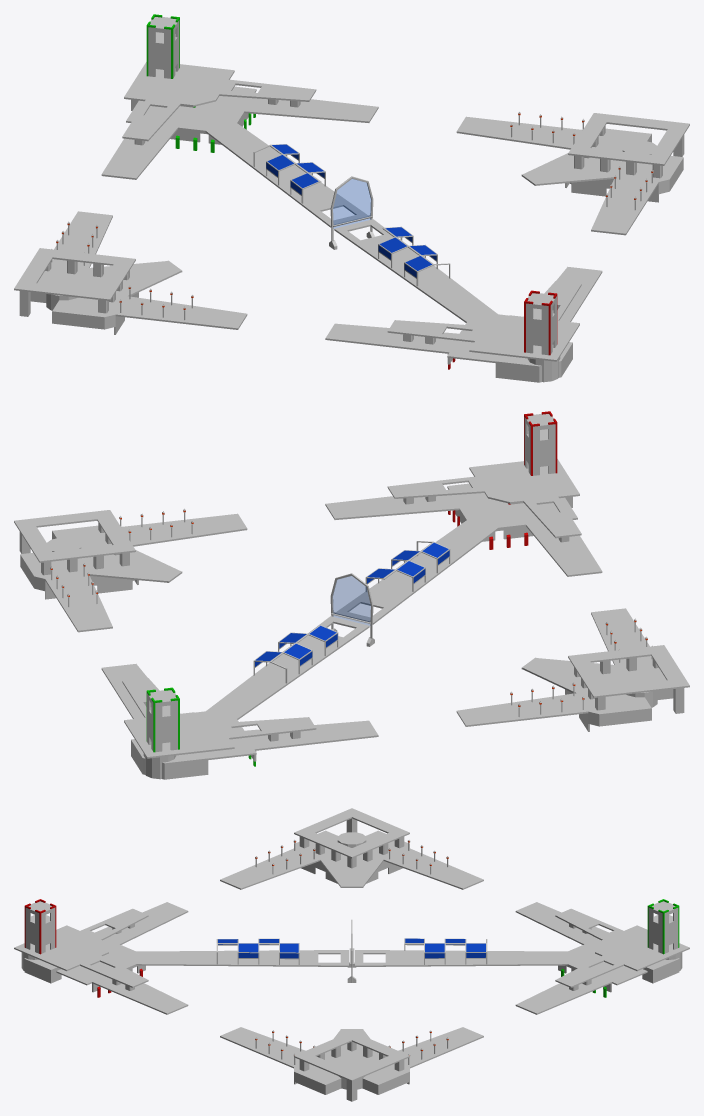
The model's file is version-4.obj.
3 views of the same model, one above another, from view 1: azimuth 30°, elevation 25°; view 2: azimuth 150°, elevation 25°; view 3: azimuth 270°, elevation 25° (orthographic). The views are drawn at different scales.
Parts seen in each view (by area): view 1: side_castle_catwalk_Cube.049, side_castle_catwalk.001_Cube.049, green_castle_catwalk_lower_Cube.018, red_castle_catwalk_middle_Cube.059, green_castle_catwalk_middle_Cube.057, side_fortress_upper.001_Cube.043, green_castle_upper_floor_Cube.016, red_castle_catwalk_lower_Cube.029, side_fortress_higher.001_Cube.044, side_fortress_higher_Cube.044, side_fortress_upper_Cube.043, red_castle_upper_floor_Cube.028 (+14 smaller); view 2: side_castle_catwalk_Cube.049, side_castle_catwalk.001_Cube.049, red_castle_catwalk_lower_Cube.029, green_castle_catwalk_middle_Cube.057, red_castle_catwalk_middle_Cube.059, side_fortress_upper.001_Cube.043, red_castle_upper_floor_Cube.028, green_castle_catwalk_lower_Cube.018, side_fortress_higher.001_Cube.044, side_fortress_higher_Cube.044, side_fortress_upper_Cube.043, green_castle_upper_floor_Cube.016 (+14 smaller); view 3: side_castle_catwalk.001_Cube.049, side_castle_catwalk_Cube.049, green_castle_catwalk_middle_Cube.057, red_castle_catwalk_middle_Cube.059, side_fortress_upper_Cube.043, green_castle_catwalk_lower_Cube.018, red_castle_catwalk_lower_Cube.029, green_castle_upper_floor_Cube.016, red_castle_upper_floor_Cube.028, side_fortress_higher_Cube.044, side_fortress_higher.001_Cube.044, green_castle_catwalk_upper_Cube.019 (+13 smaller).
Part boxes in pixels (x1,y1,x2,y2): side_castle_catwalk_Cube.049: (456, 116, 658, 235); side_castle_catwalk.001_Cube.049: (51, 211, 247, 329); green_castle_catwalk_lower_Cube.018: (101, 93, 378, 179); red_castle_catwalk_middle_Cube.059: (334, 219, 497, 322); green_castle_catwalk_middle_Cube.057: (205, 123, 367, 227); side_fortress_upper.001_Cube.043: (30, 263, 138, 329); green_castle_upper_floor_Cube.016: (124, 62, 234, 106); red_castle_catwalk_lower_Cube.029: (325, 266, 602, 353); side_fortress_higher.001_Cube.044: (14, 248, 135, 300); side_fortress_higher_Cube.044: (568, 113, 689, 165); side_fortress_upper_Cube.043: (565, 128, 683, 194); red_castle_upper_floor_Cube.028: (469, 315, 579, 361); side_castle_catwalk_Cube.049: (45, 513, 247, 632); side_castle_catwalk.001_Cube.049: (456, 608, 652, 726); red_castle_catwalk_lower_Cube.029: (325, 490, 602, 576); green_castle_catwalk_middle_Cube.057: (206, 616, 369, 719); red_castle_catwalk_middle_Cube.059: (336, 520, 498, 624); side_fortress_upper.001_Cube.043: (565, 660, 673, 726); red_castle_upper_floor_Cube.028: (469, 459, 579, 503); green_castle_catwalk_lower_Cube.018: (101, 663, 378, 750); side_fortress_higher.001_Cube.044: (568, 645, 689, 697); side_fortress_higher_Cube.044: (14, 510, 135, 562); side_fortress_upper_Cube.043: (20, 525, 138, 591); green_castle_upper_floor_Cube.016: (124, 712, 234, 758); side_castle_catwalk.001_Cube.049: (220, 848, 483, 889); side_castle_catwalk_Cube.049: (220, 1027, 483, 1068); green_castle_catwalk_middle_Cube.057: (355, 950, 567, 966); red_castle_catwalk_middle_Cube.059: (136, 950, 348, 966); side_fortress_upper_Cube.043: (294, 1045, 409, 1094); green_castle_catwalk_lower_Cube.018: (515, 902, 610, 1014); red_castle_catwalk_lower_Cube.029: (93, 902, 188, 1014); green_castle_upper_floor_Cube.016: (595, 925, 689, 971); red_castle_upper_floor_Cube.028: (14, 925, 108, 971); side_fortress_higher_Cube.044: (294, 1031, 409, 1081); side_fortress_higher.001_Cube.044: (294, 808, 409, 858); green_castle_catwalk_upper_Cube.019: (555, 908, 623, 987).
Size of the model in its own units: 863 by 102 by 905.
